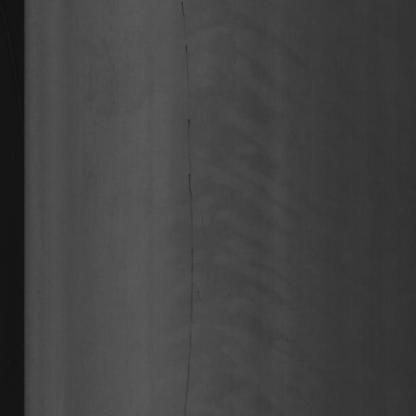inclusion: (170, 7, 204, 406)
